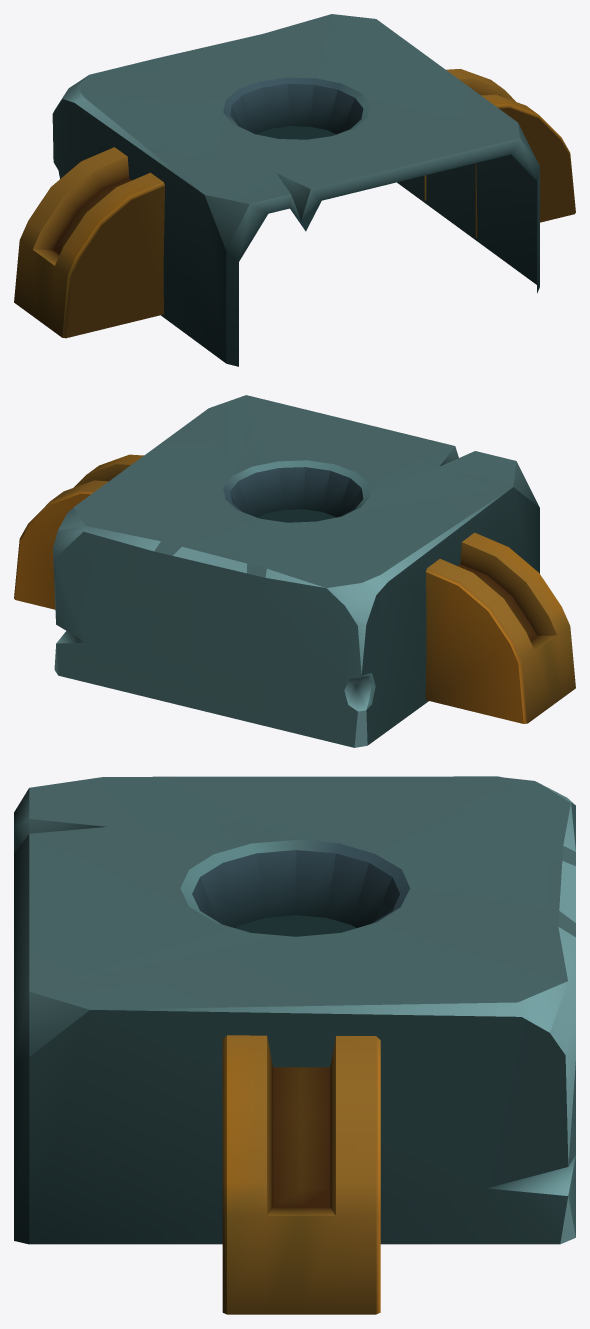
Rendered from PearlSlot.fbx.
3 renders of one model, top to bottom at view 1: azimuth 30°, elevation 25°; view 2: azimuth 150°, elevation 25°; view 3: azimuth 270°, elevation 25°, orthographic. The views are drawn at different scales.
Parts seen in each view (by area): view 1: PearlSlot; view 2: PearlSlot; view 3: PearlSlot.
Part boxes in pixels (x1=…): PearlSlot: x1=14, y1=14, x2=575, y2=366; PearlSlot: x1=14, y1=395, x2=575, y2=747; PearlSlot: x1=14, y1=776, x2=575, y2=1314.
Bounding box in the file's own units: 139 × 40.25 × 85.33.
